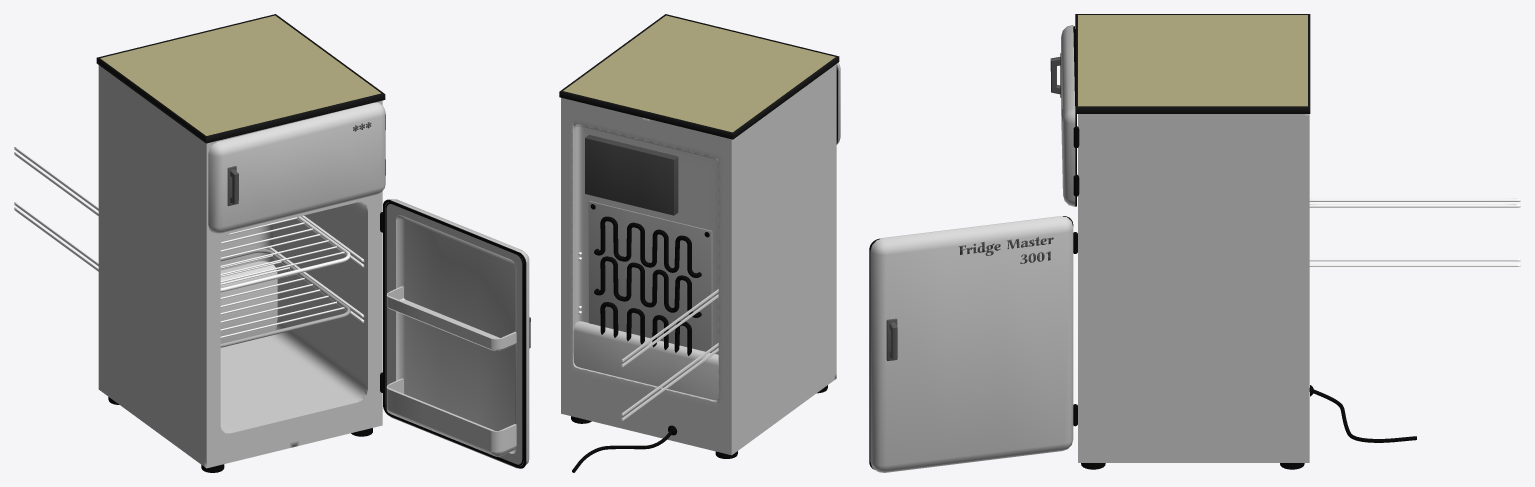
Rendered from Congelador.FBX.
3 views of the same model, side by side, from view 1: azimuth 30°, elevation 25°; view 2: azimuth 150°, elevation 25°; view 3: azimuth 270°, elevation 25° (orthographic). The views are drawn at different scales.
Visible parts, largest first — view 1: ChamferBox, ChamferBo5, Box01, ChamferBo3, Box03, ChamferBo2, Box02, Box04, Rectangle5, Rectangle4, Rectangle6, Rectangle0 (+1 smaller); view 2: ChamferBox, Box01, ChamferBo1, ChamferBo2, ChamferBo0, Box02, Line01, Line01.Line02, Line01.Line03, Line04, Line25.Line29, Line25.Line31 (+2 smaller); view 3: ChamferBox, ChamferBo5, Box01, Box02, ChamferBo3, Line25.Line29, Line25.Line31, Line25.Line30, Text02.
Part boxes in pixels (x1,y1,x2,y2): ChamferBox: (98, 65, 382, 468); ChamferBo5: (385, 199, 529, 468); Box01: (100, 15, 380, 135); ChamferBo3: (208, 102, 385, 233); Box03: (386, 378, 516, 456); ChamferBo2: (220, 261, 277, 343); Box02: (96, 14, 385, 143); Box04: (386, 286, 516, 350); Rectangle5: (383, 199, 526, 468); Rectangle4: (385, 202, 523, 466); Rectangle6: (383, 201, 524, 467); Rectangle0: (220, 249, 350, 347); ChamferBox: (561, 64, 836, 455); Box01: (563, 15, 835, 132); ChamferBo1: (588, 201, 712, 352); ChamferBo2: (573, 321, 718, 400); ChamferBo0: (585, 134, 678, 215); Box02: (559, 14, 839, 139); Line01: (594, 216, 701, 277); Line01.Line02: (594, 256, 701, 317); Line01.Line03: (600, 302, 691, 355); Line04: (572, 430, 672, 472); Line25.Line29: (621, 294, 718, 367); Line25.Line31: (621, 342, 718, 415); ChamferBox: (1078, 114, 1309, 462); ChamferBo5: (870, 216, 1073, 472); Box01: (1078, 15, 1307, 106); Box02: (1075, 14, 1310, 113); ChamferBo3: (1061, 25, 1075, 206); Line25.Line29: (1309, 204, 1520, 207); Line25.Line31: (1309, 258, 1520, 261); Line25.Line30: (1309, 198, 1520, 201); Text02: (959, 237, 1053, 263).
Size of the model in its own units: 44.35 by 60.41 by 97.34.
